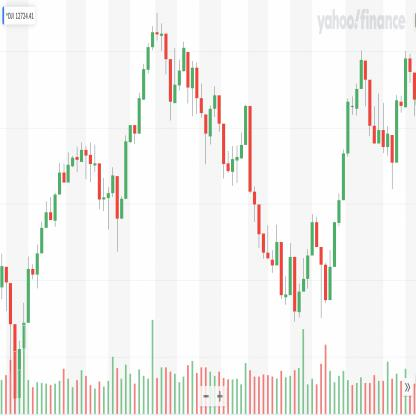Bearish: Tweezer Top: (310, 210, 319, 258)
Bullish: 3 White Soldiers: (336, 94, 350, 227), (332, 148, 346, 268), (327, 192, 342, 304)
Bullish: Tweezer Bottom: (292, 254, 302, 324)
